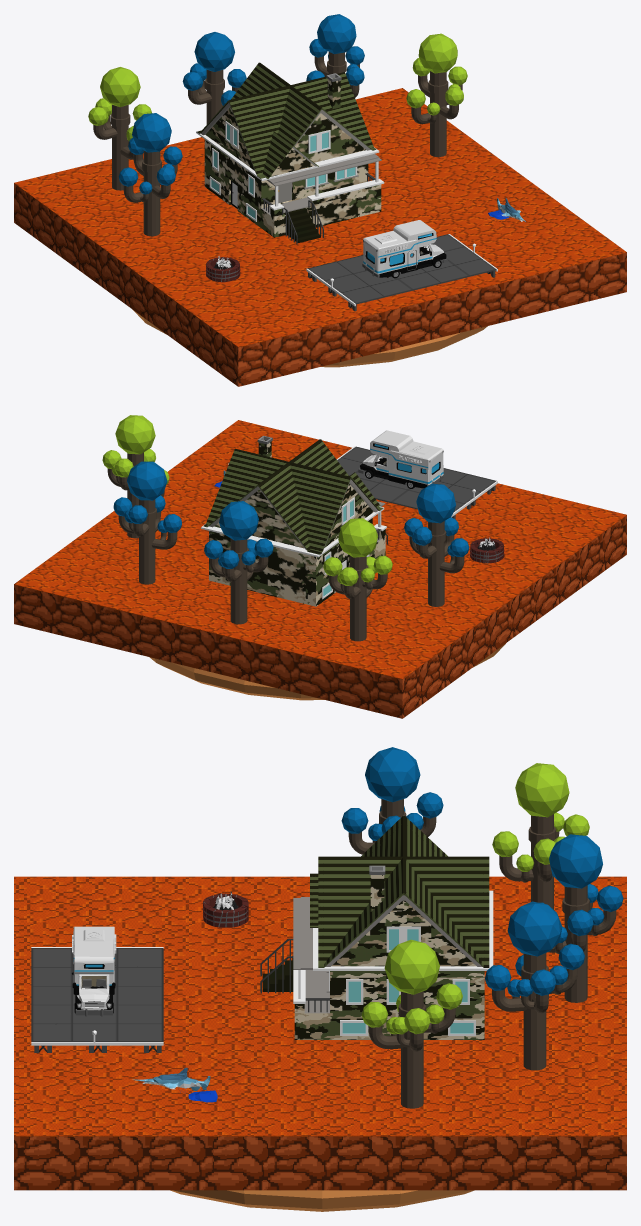
3 views of the same model, one above another, from view 1: azimuth 30°, elevation 25°; view 2: azimuth 150°, elevation 25°; view 3: azimuth 270°, elevation 25° (orthographic). The views are drawn at different scales.
Parts seen in each view (by area): view 1: Cube.001, Cube.002, VEHICLES_CAMPER, UNDERGROUND_PIZZA, OBJRANDOM_CAMPFIRE; view 2: Cube.001, Cube.002, VEHICLES_CAMPER, UNDERGROUND_PIZZA, OBJRANDOM_CAMPFIRE; view 3: Cube.001, Cube.002, UNDERGROUND_PIZZA, VEHICLES_CAMPER, OBJRANDOM_CAMPFIRE, ANIMAL_PEZ_ESPADA.
Part boxes in pixels (x1,y1,x2,y2): Cube.001: (14,14,626,386); Cube.002: (196,62,384,244); VEHICLES_CAMPER: (362,220,448,278); UNDERGROUND_PIZZA: (132,309,487,367); OBJRANDOM_CAMPFIRE: (206,255,240,282); Cube.001: (14,415,626,718); Cube.002: (201,435,388,606); VEHICLES_CAMPER: (358,430,444,488); UNDERGROUND_PIZZA: (149,643,505,700); OBJRANDOM_CAMPFIRE: (470,530,504,563); Cube.001: (14,747,626,1190); Cube.002: (260,816,493,1039); UNDERGROUND_PIZZA: (170,1190,474,1211); VEHICLES_CAMPER: (72,926,116,1016); OBJRANDOM_CAMPFIRE: (203,891,248,927); ANIMAL_PEZ_ESPADA: (132,1067,217,1102).
Bounding box in the file's own units: 4000 × 1875 × 4000.
Materials: 41 (6 with a texture image).
